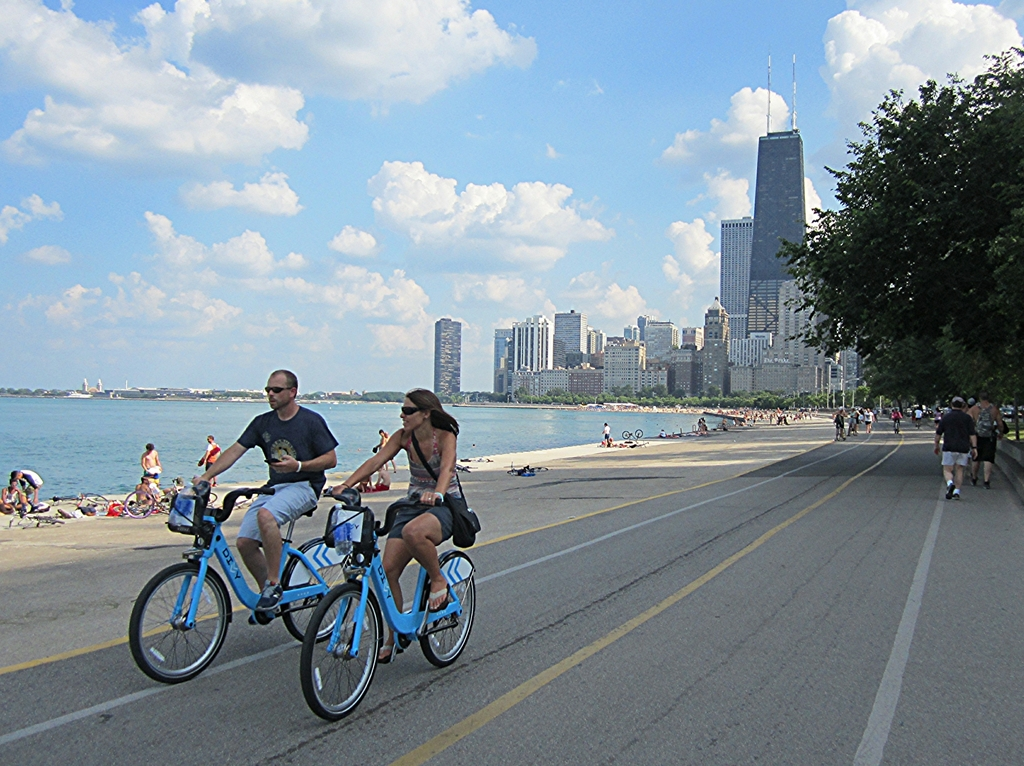Bike: (275, 509, 507, 732)
